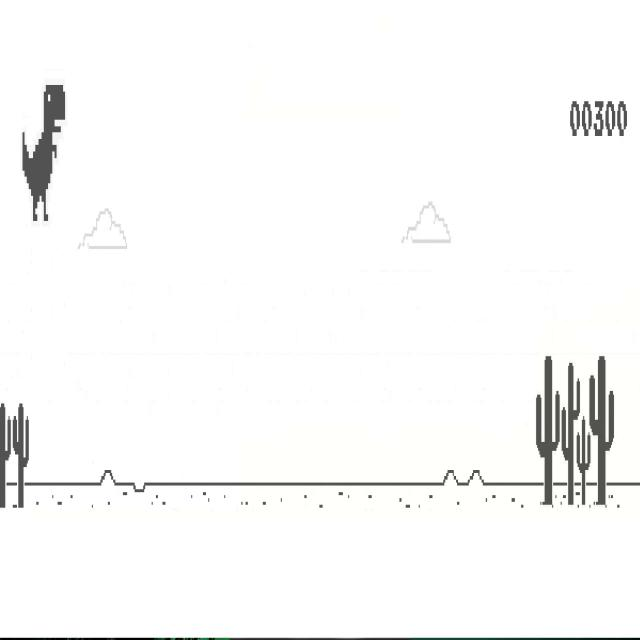cacto: (589, 355, 614, 506), (536, 355, 560, 506), (561, 362, 581, 506), (13, 402, 29, 508), (576, 416, 591, 506), (0, 402, 11, 508)
dino: (23, 84, 66, 222)
